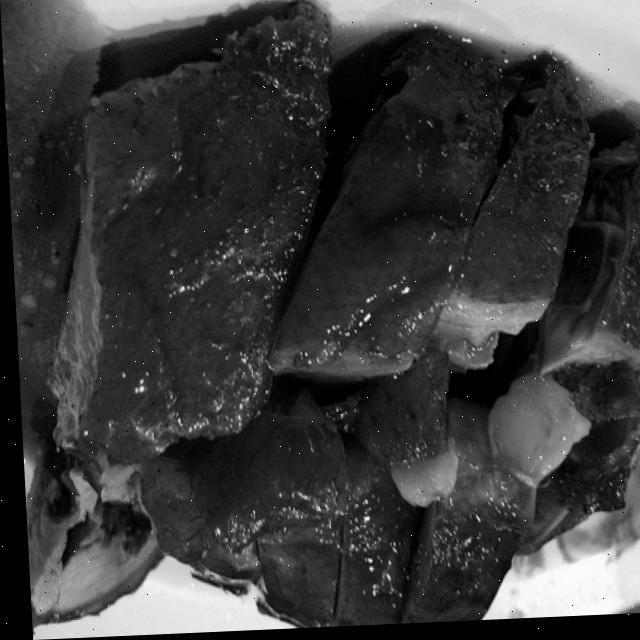烧串烤肉: (32, 0, 640, 639)
